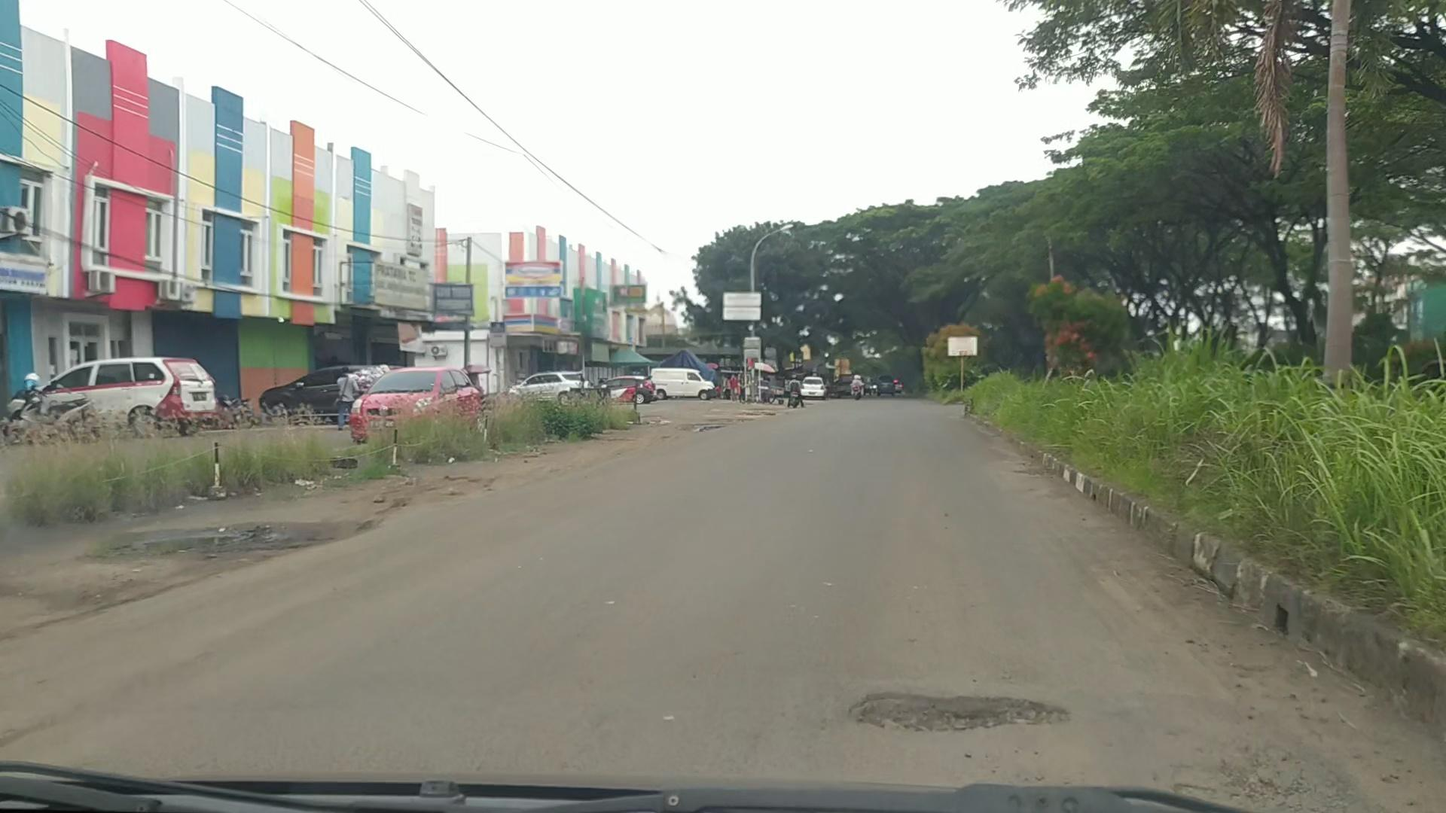pothole: (92, 512, 363, 573), (828, 685, 1045, 732)
